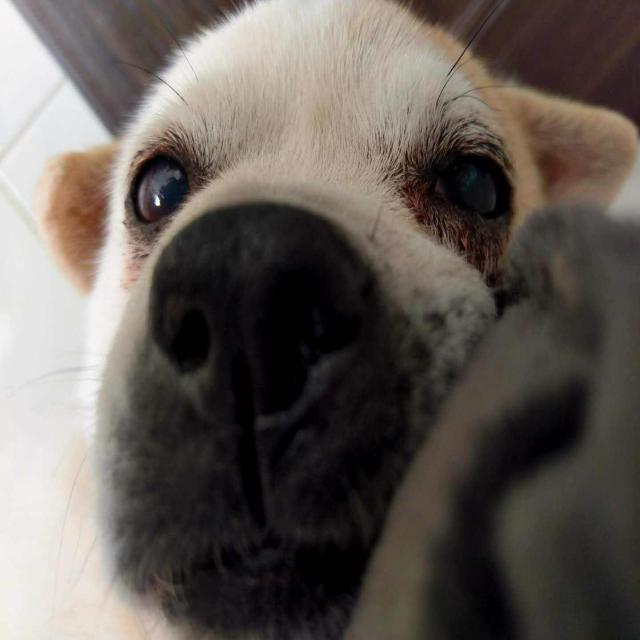eye: (427, 144, 514, 227), (128, 148, 193, 228)
